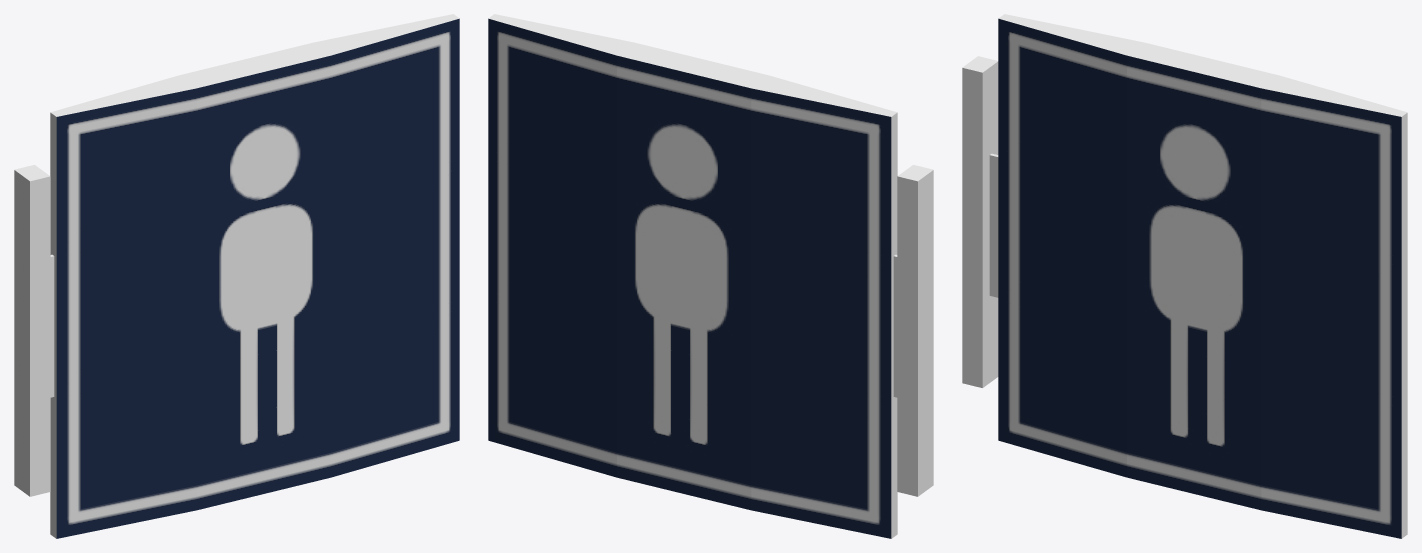
Rendered from toilet_board_man.fbx.
3 views of the same model, side by side, from view 1: azimuth 30°, elevation 25°; view 2: azimuth 150°, elevation 25°; view 3: azimuth 330°, elevation 25° (orthographic).
Visible parts, largest first — view 1: toilet_board_man; view 2: toilet_board_man; view 3: toilet_board_man.
Boxes of the visible parts, bbox=[...] form: toilet_board_man: bbox=[14, 14, 459, 538]; toilet_board_man: bbox=[488, 14, 933, 538]; toilet_board_man: bbox=[962, 14, 1407, 538].
Bounding box in the file's own units: 0.00378 × 0.00351 × 0.000268.
Materials: 1 (1 with a texture image).
